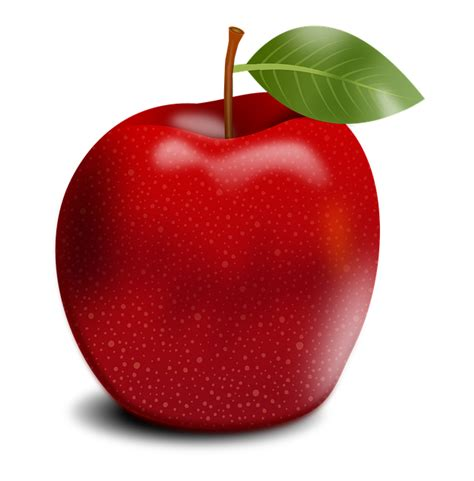apple: (51, 83, 386, 436)
